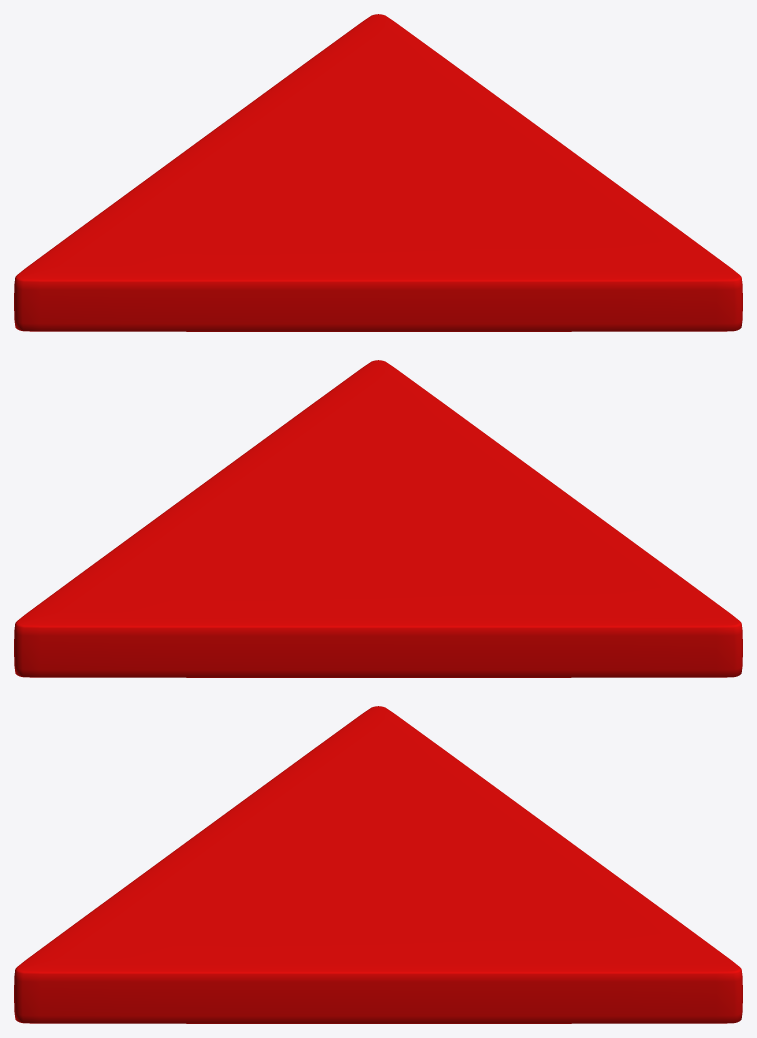
3 views of the same model, one above another, from view 1: azimuth 30°, elevation 25°; view 2: azimuth 150°, elevation 25°; view 3: azimuth 270°, elevation 25° (orthographic).
Parts seen in each view (by area): view 1: Cylinder.016; view 2: Cylinder.016; view 3: Cylinder.016.
Boxes of the visible parts, <box> form: Cylinder.016: <box>14,14,742,331</box>; Cylinder.016: <box>14,360,742,677</box>; Cylinder.016: <box>14,706,742,1023</box>.
Size of the model in its own units: 6.5 by 0.6046 by 7.46.
